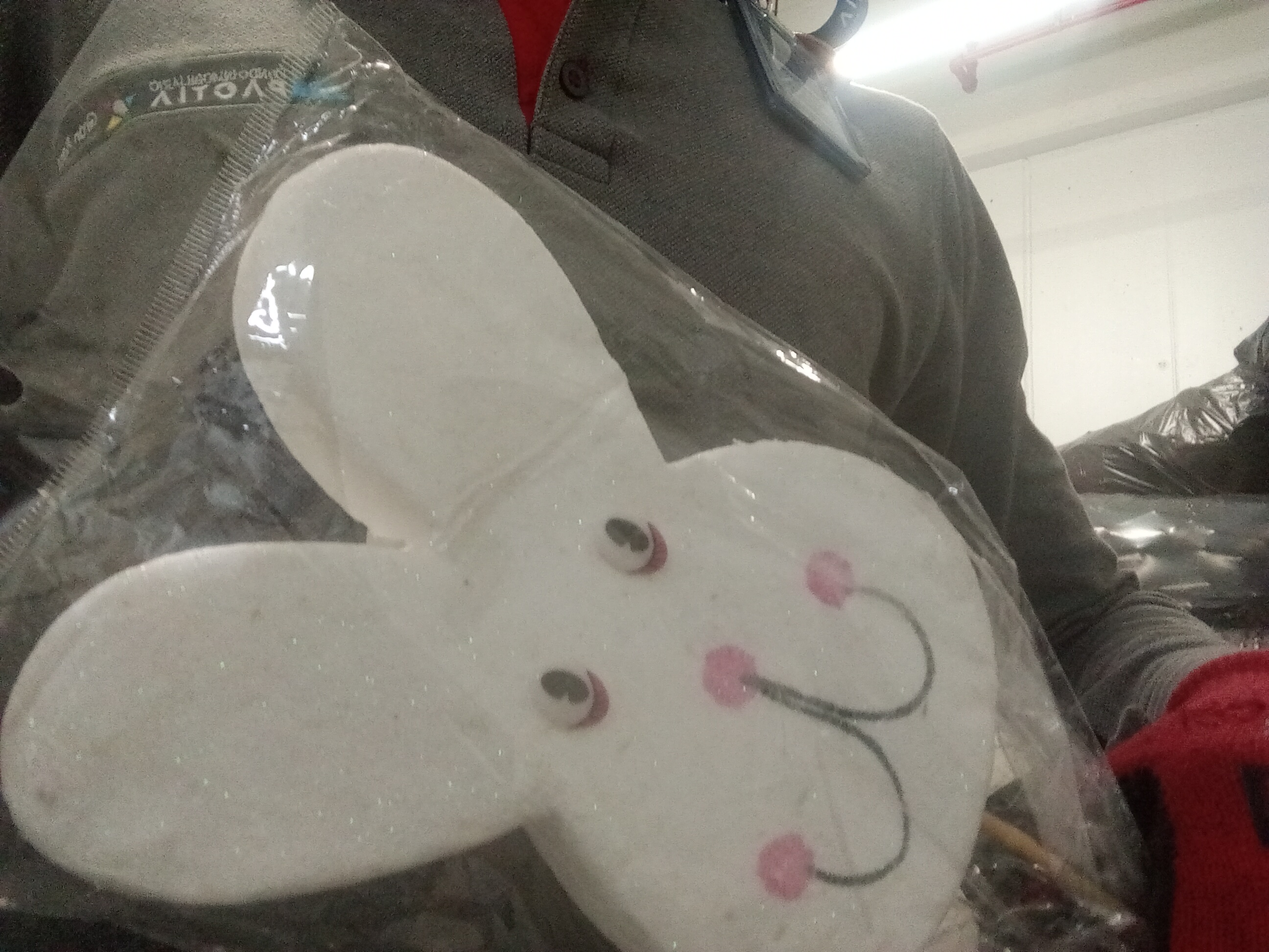Ordinario: (0, 145, 998, 952)
